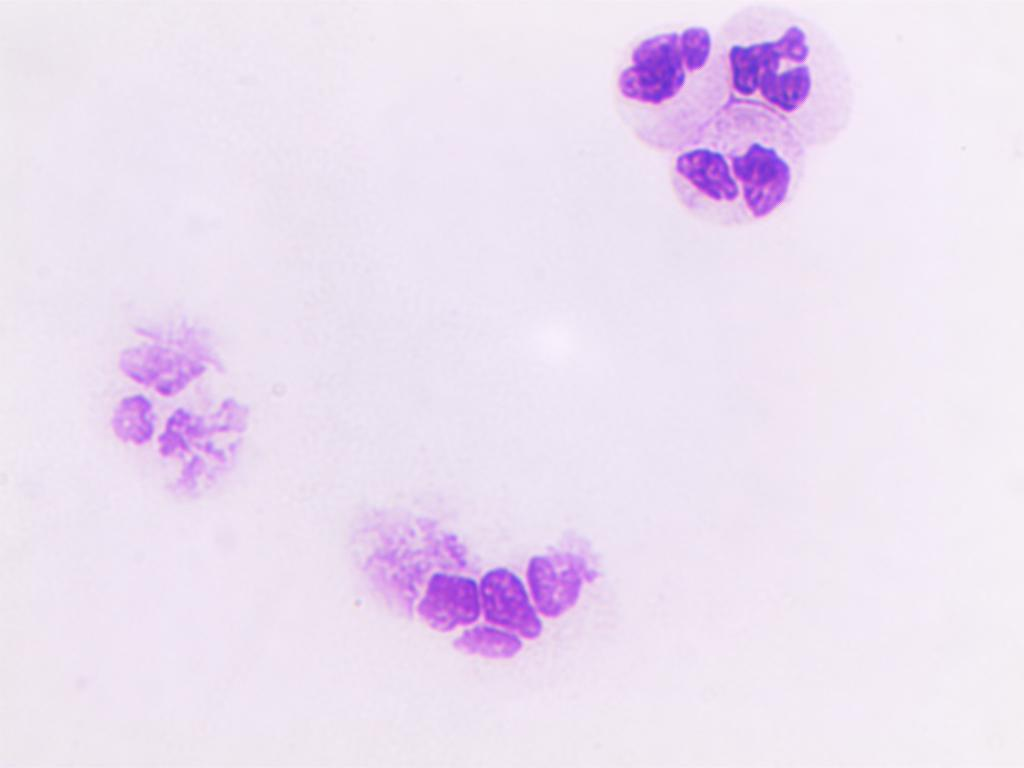artifact: (96, 320, 258, 509)
neutrophil: (352, 504, 608, 681), (717, 1, 861, 146), (599, 11, 731, 150), (648, 109, 801, 222)
